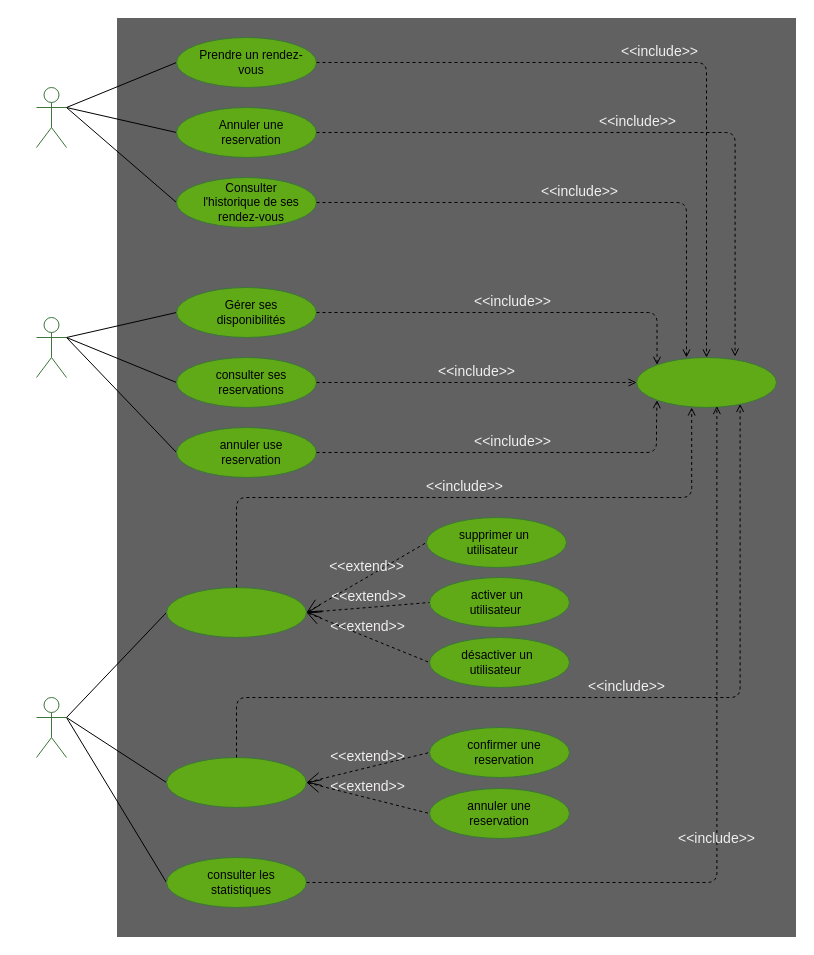
This 814x955 diagram has some shape labels left out. Here are the shapes that lost their labels. From the top down, the centre of each, then its label:
(x=51, y=117): Patient
(x=51, y=347): Médecin
(x=706, y=382): s'authentifier
(x=236, y=612): consulter la list des utilisatreurs
(x=51, y=727): Admin
(x=236, y=782): consulter la liste des reservation
